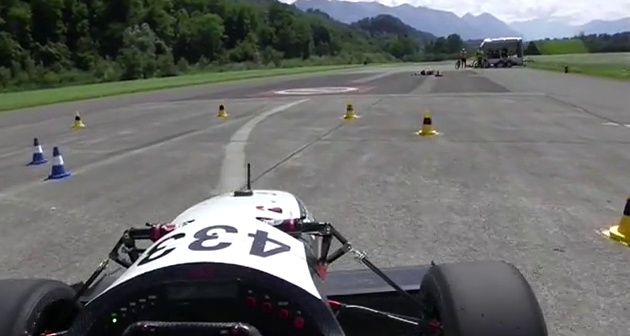Cone: (44, 143, 77, 180), (27, 131, 51, 166), (415, 108, 443, 138), (342, 97, 358, 121), (72, 109, 87, 128), (216, 99, 229, 118)
